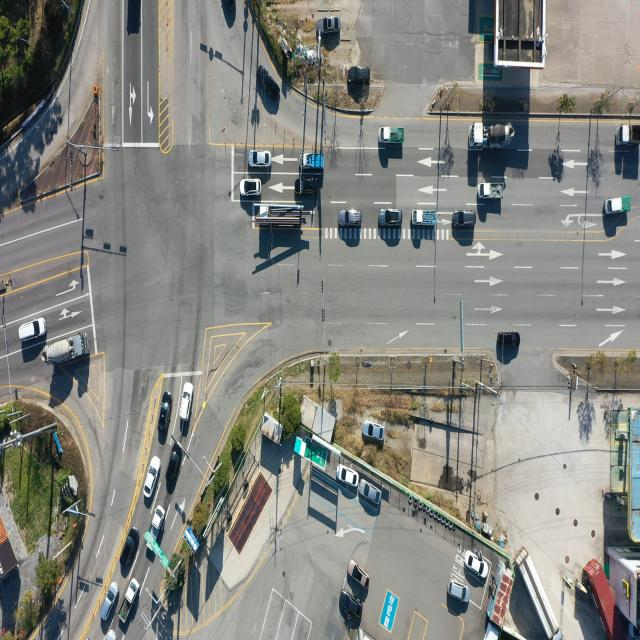car: (258, 65, 282, 101), (100, 580, 119, 621), (166, 444, 182, 492), (121, 530, 140, 570), (20, 316, 47, 342), (144, 455, 160, 498), (341, 590, 362, 622), (358, 480, 381, 505), (350, 562, 370, 590), (446, 579, 469, 603), (464, 552, 484, 578), (160, 394, 173, 433), (337, 464, 360, 486), (180, 382, 192, 421), (362, 421, 384, 441), (379, 209, 403, 227), (295, 178, 318, 196), (340, 209, 363, 227), (240, 178, 262, 196), (453, 211, 476, 228), (251, 150, 273, 167), (498, 333, 520, 350), (350, 66, 370, 84), (323, 17, 340, 34), (226, 0, 237, 14), (104, 629, 117, 640)
medium_truck: (518, 543, 561, 637), (44, 334, 91, 367), (254, 204, 304, 230), (471, 122, 515, 149)
small_truck: (118, 578, 140, 626), (148, 509, 166, 553), (617, 122, 640, 145), (480, 181, 506, 199), (380, 126, 405, 144), (603, 198, 628, 216), (302, 154, 326, 172), (412, 210, 437, 227)
